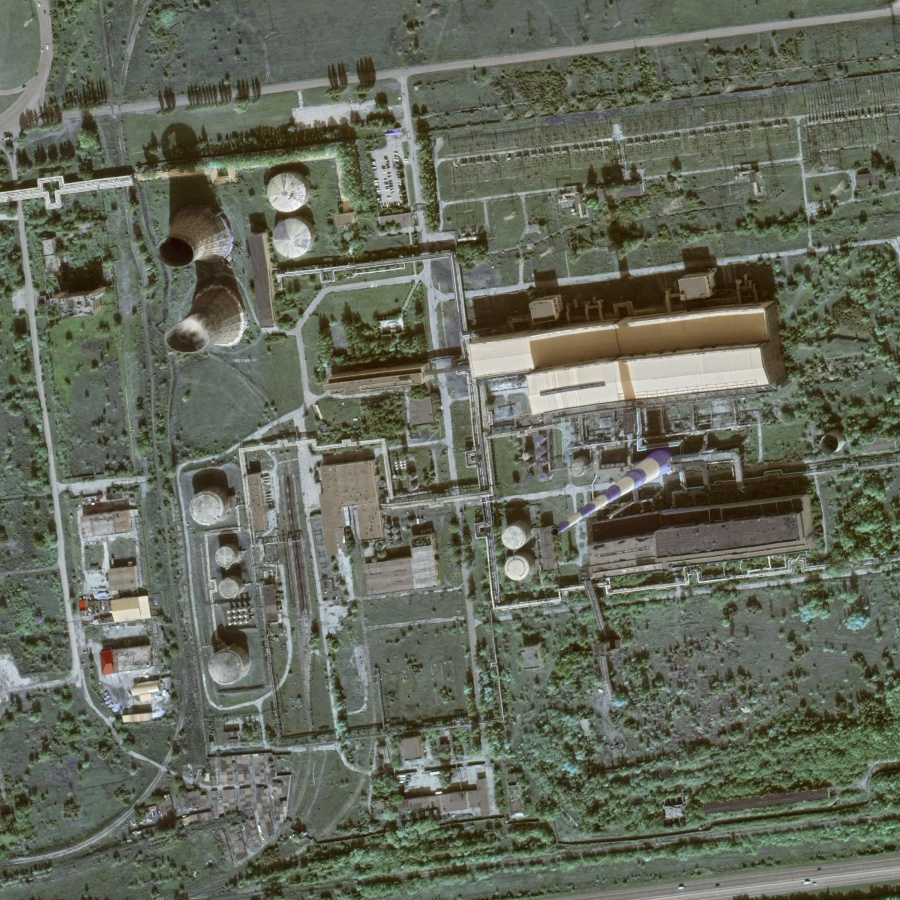PowerPlant: (150, 150, 804, 741)
